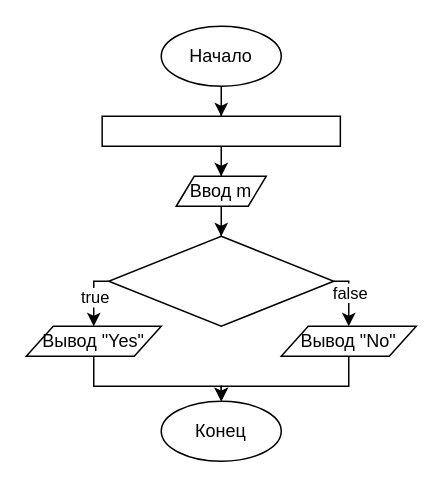
Some shapes in this 443 by 488 pixel diagram are drawn without their labels. The centre of each missing label's shape, as x and y in pixels:
'A' <= toupper(ch) && toupper(ch) <= 'D': pixel 220 280
Положительное число m: pixel 220 130
